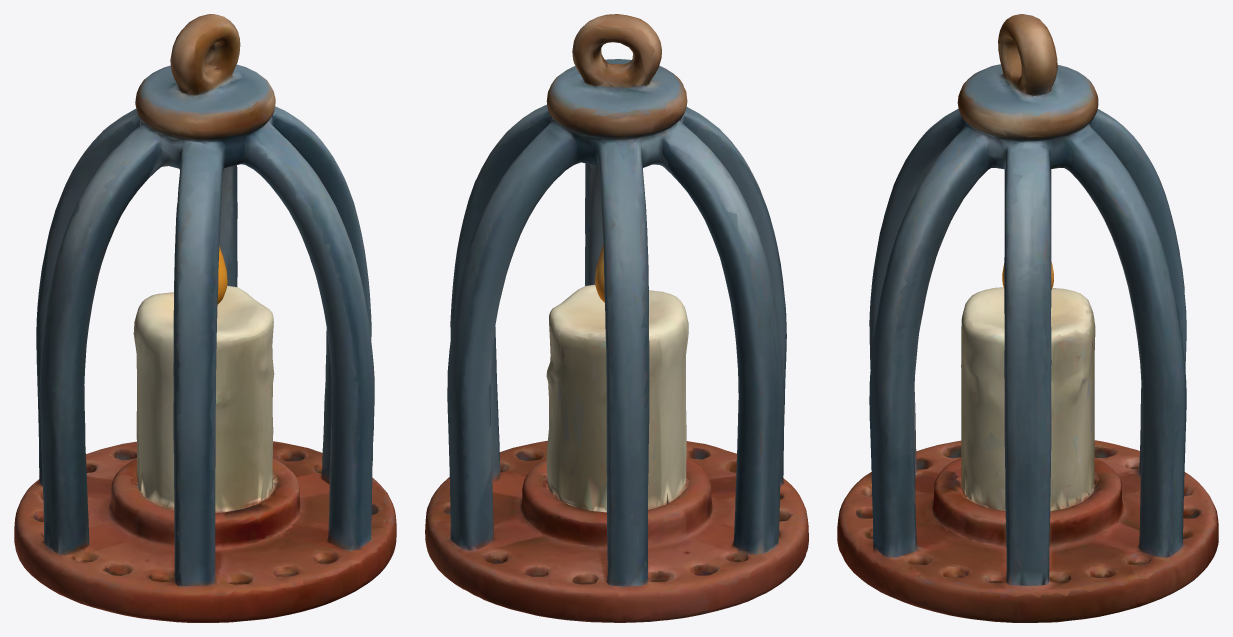
Rendered from sc-birthday-cloche.glb.
3 views of the same model, side by side, from view 1: azimuth 30°, elevation 25°; view 2: azimuth 150°, elevation 25°; view 3: azimuth 270°, elevation 25° (orthographic).
Parts seen in each view (by area): view 1: geometry_0; view 2: geometry_0; view 3: geometry_0.
Part boxes in pixels (x1=…): geometry_0: x1=14, y1=14, x2=396, y2=622; geometry_0: x1=425, y1=14, x2=808, y2=622; geometry_0: x1=837, y1=14, x2=1218, y2=622.
Bounding box in the file's own units: 0.6637 × 1 × 0.6583.
1 material, 1 textured.
